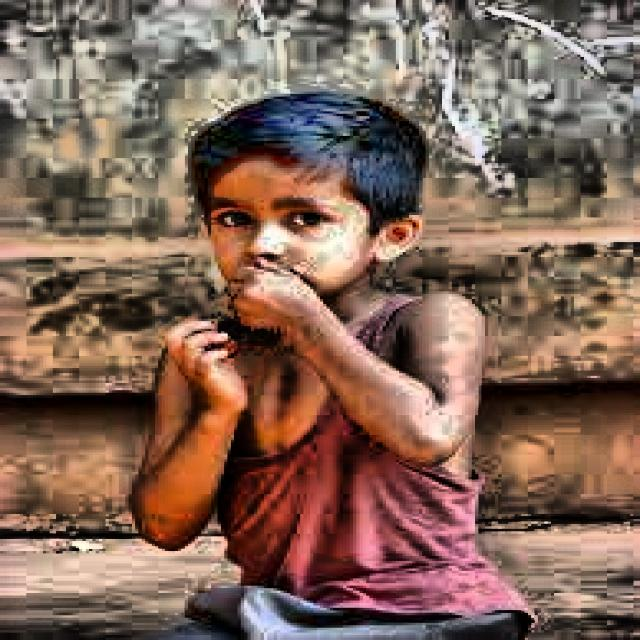Human: (135, 64, 525, 640)
